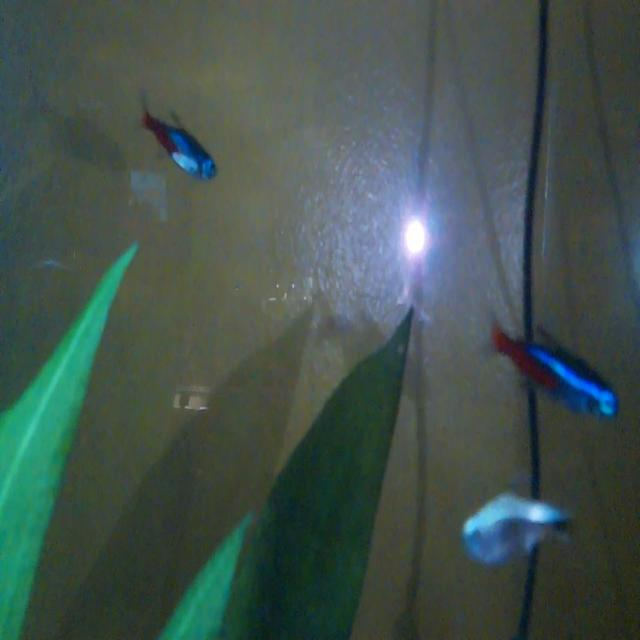fish: (484, 300, 624, 432), (462, 471, 574, 576), (131, 89, 226, 199)
